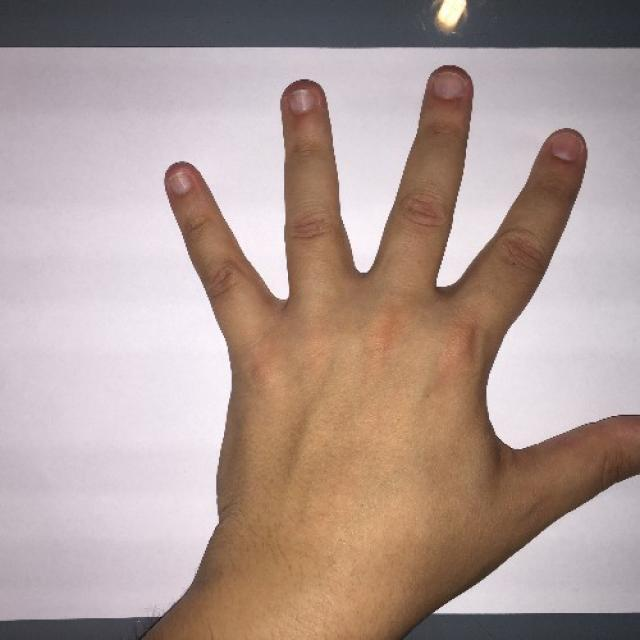paper: (164, 62, 640, 528)
